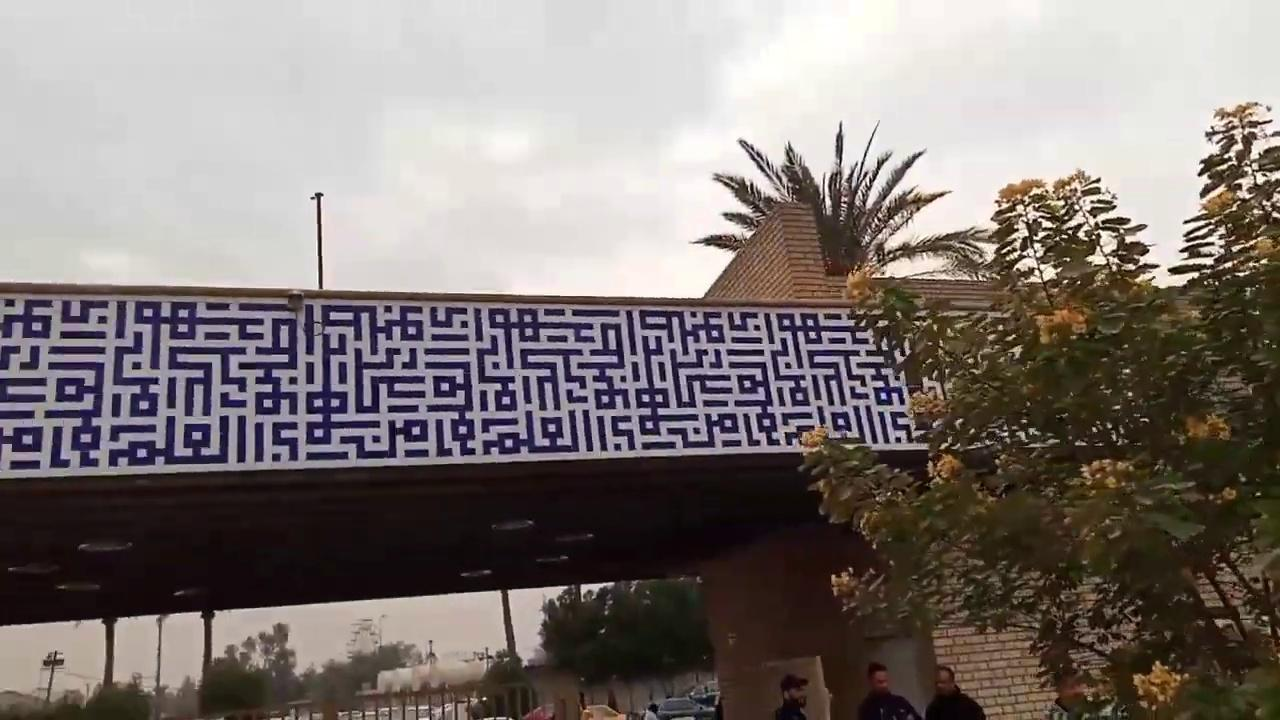person: (856, 661, 923, 719), (924, 664, 986, 719), (774, 673, 809, 719)
tree: (794, 99, 1278, 717), (689, 117, 987, 284), (1167, 99, 1279, 352), (536, 575, 714, 716), (306, 614, 420, 715), (238, 621, 298, 716), (198, 643, 268, 717), (476, 648, 535, 717)
